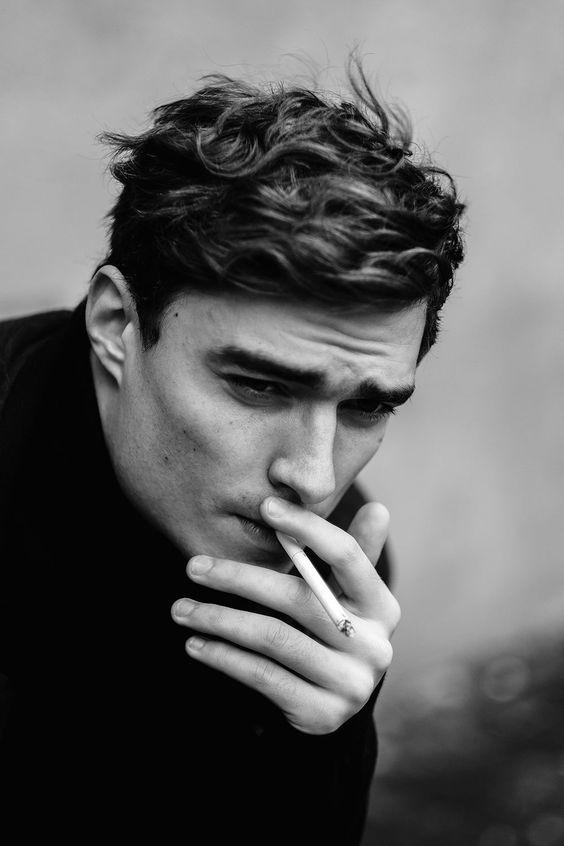cigarette: (275, 531, 356, 637)
